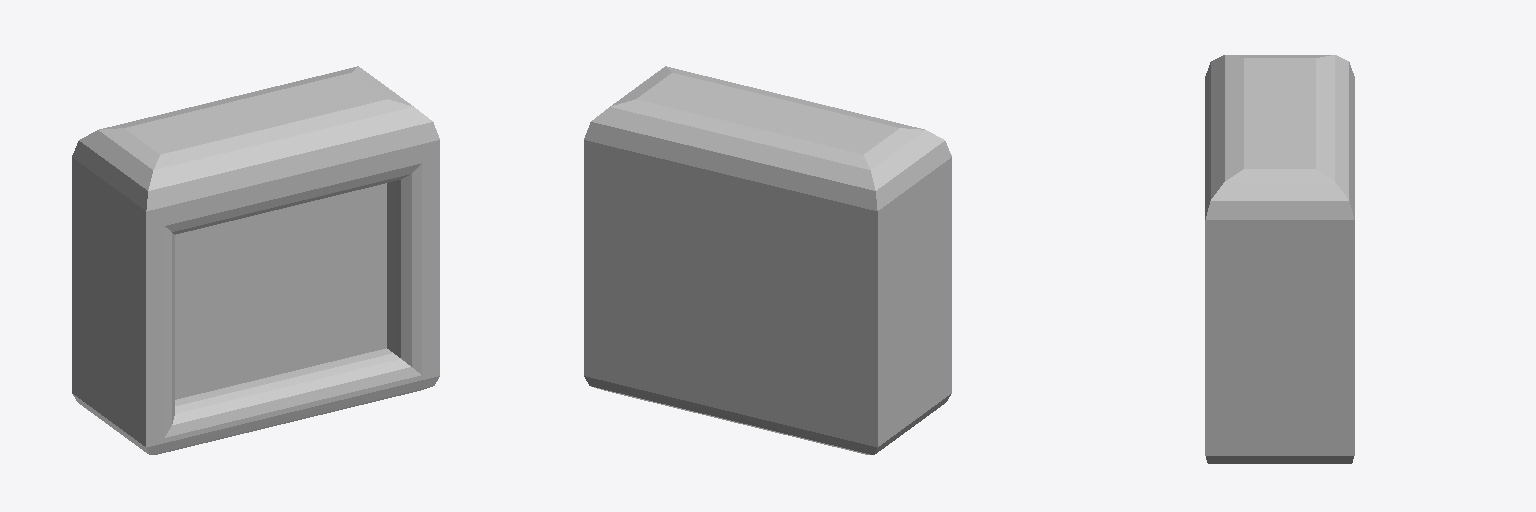
The model's file is PlayerHead.obj.
The picture shows the model from 3 angles: view 1: azimuth 30°, elevation 25°; view 2: azimuth 150°, elevation 25°; view 3: azimuth 270°, elevation 25°; orthographic projection.
Parts seen in each view (by area): view 1: Cube.001; view 2: Cube.001; view 3: Cube.001.
Boxes of the visible parts, box(x1,y1,x2,y2) form: Cube.001: box(72, 66, 439, 454); Cube.001: box(584, 66, 951, 454); Cube.001: box(1205, 55, 1354, 463).
Size of the model in its own units: 1.36 by 1.26 by 0.5988.